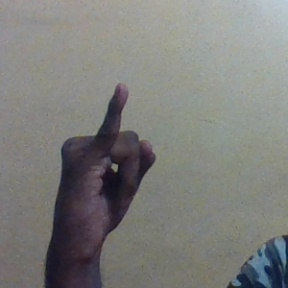I: (51, 77, 160, 260)
